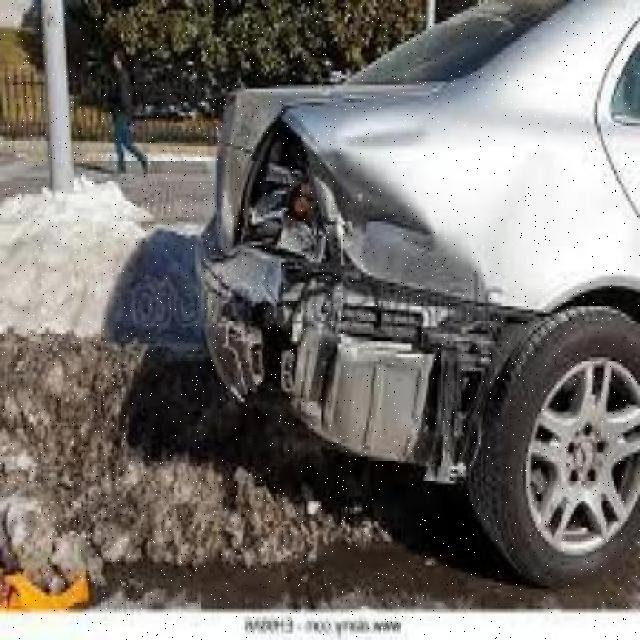damage: (217, 108, 548, 485)
